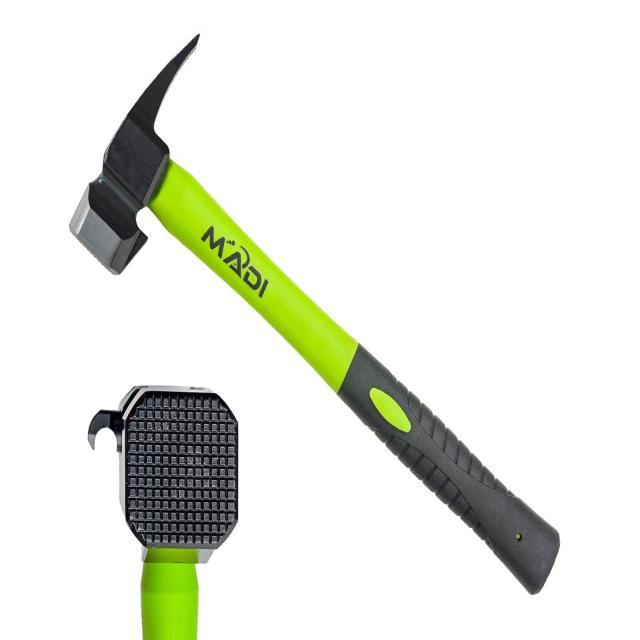hammer: (66, 26, 566, 598)
